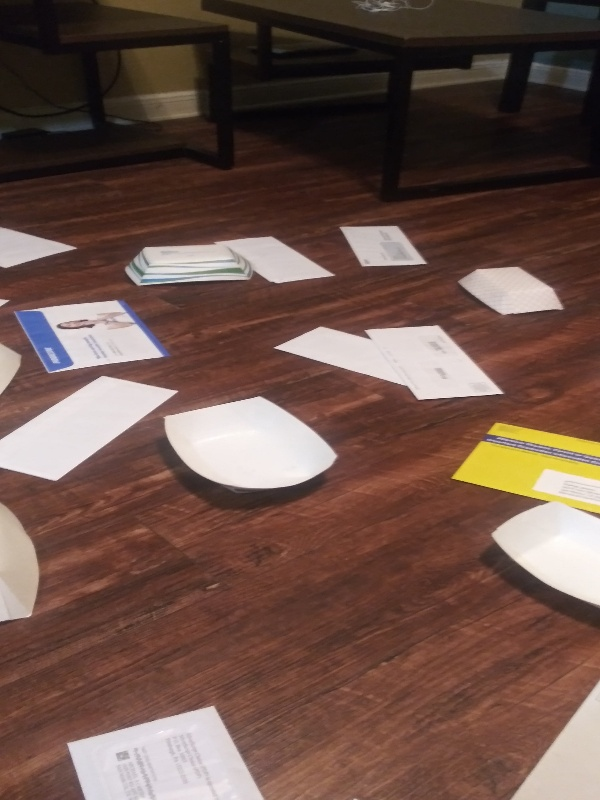plate: (155, 389, 341, 504), (482, 491, 600, 627), (453, 261, 568, 318), (121, 244, 256, 290), (1, 494, 45, 629), (1, 335, 27, 409)
